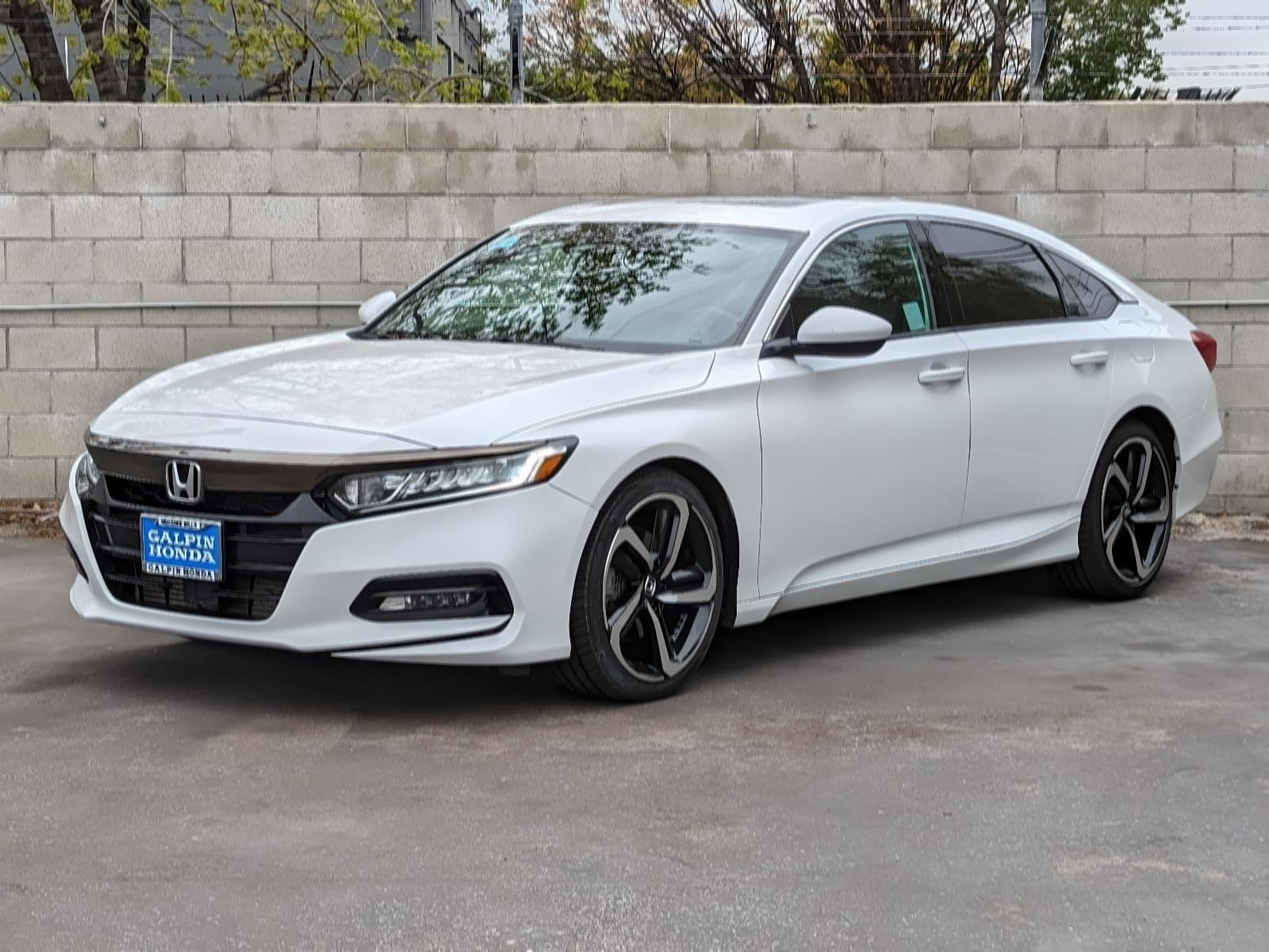Car hood: (86, 332, 713, 460)
Fender - -F-L-: (520, 341, 779, 608)
Fender - -R-L-: (1085, 282, 1198, 467)
Front bumper: (48, 456, 605, 680)
Headlight - -L-: (310, 432, 584, 529)
Passenger-s door - -F-L-: (727, 197, 980, 636)
Passenger-s door - -R-L-: (917, 184, 1117, 601)
Rear bumper: (1173, 362, 1227, 559)
Rear light - -L-: (1179, 319, 1229, 377)
Side bumper - -L-: (718, 473, 1090, 674)
Side mirror - -L-: (762, 296, 895, 380)
